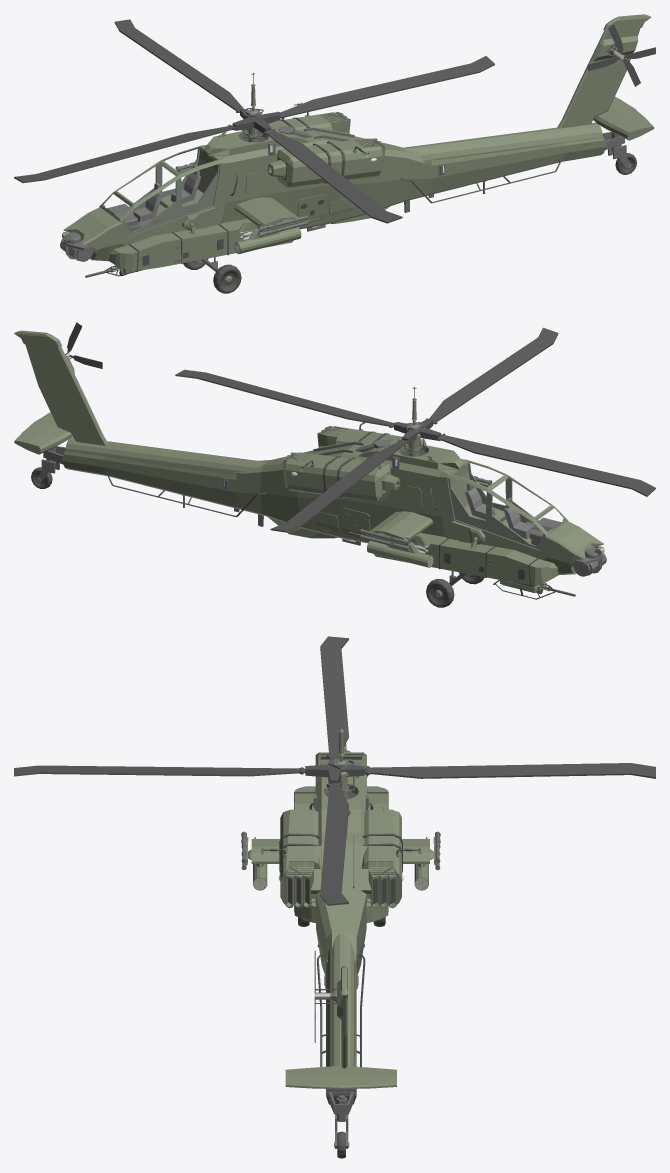
The model's file is Apache.fbx.
3 views of the same model, one above another, from view 1: azimuth 30°, elevation 25°; view 2: azimuth 150°, elevation 25°; view 3: azimuth 270°, elevation 25° (orthographic). The views are drawn at different scales.
Visible parts, largest first — view 1: Helicopter, Propellar, RearPropellar; view 2: Helicopter, Propellar, RearPropellar; view 3: Helicopter, Propellar.
Part boxes in pixels (box(x1,y1,x2,y2)): Helicopter: box(60, 14, 654, 293); Propellar: box(14, 19, 494, 223); RearPropellar: box(587, 24, 655, 86); Helicopter: box(14, 330, 606, 607); Propellar: box(175, 327, 655, 532); RearPropellar: box(67, 322, 102, 368); Helicopter: box(241, 715, 440, 1158); Propellar: box(14, 636, 655, 905).
Bounding box in the file's own units: 989 × 295 × 735.
